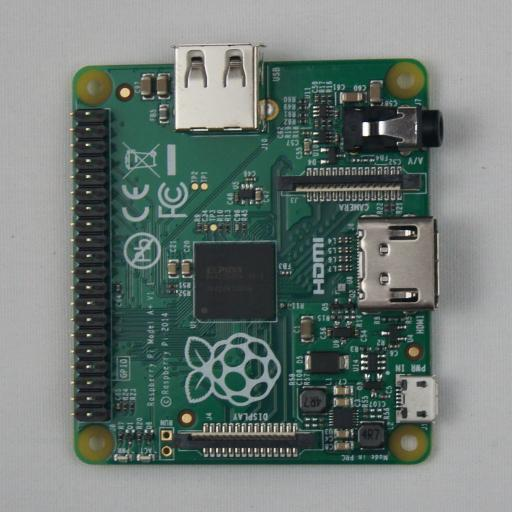Raspberry Pi A-: (72, 44, 444, 465)
